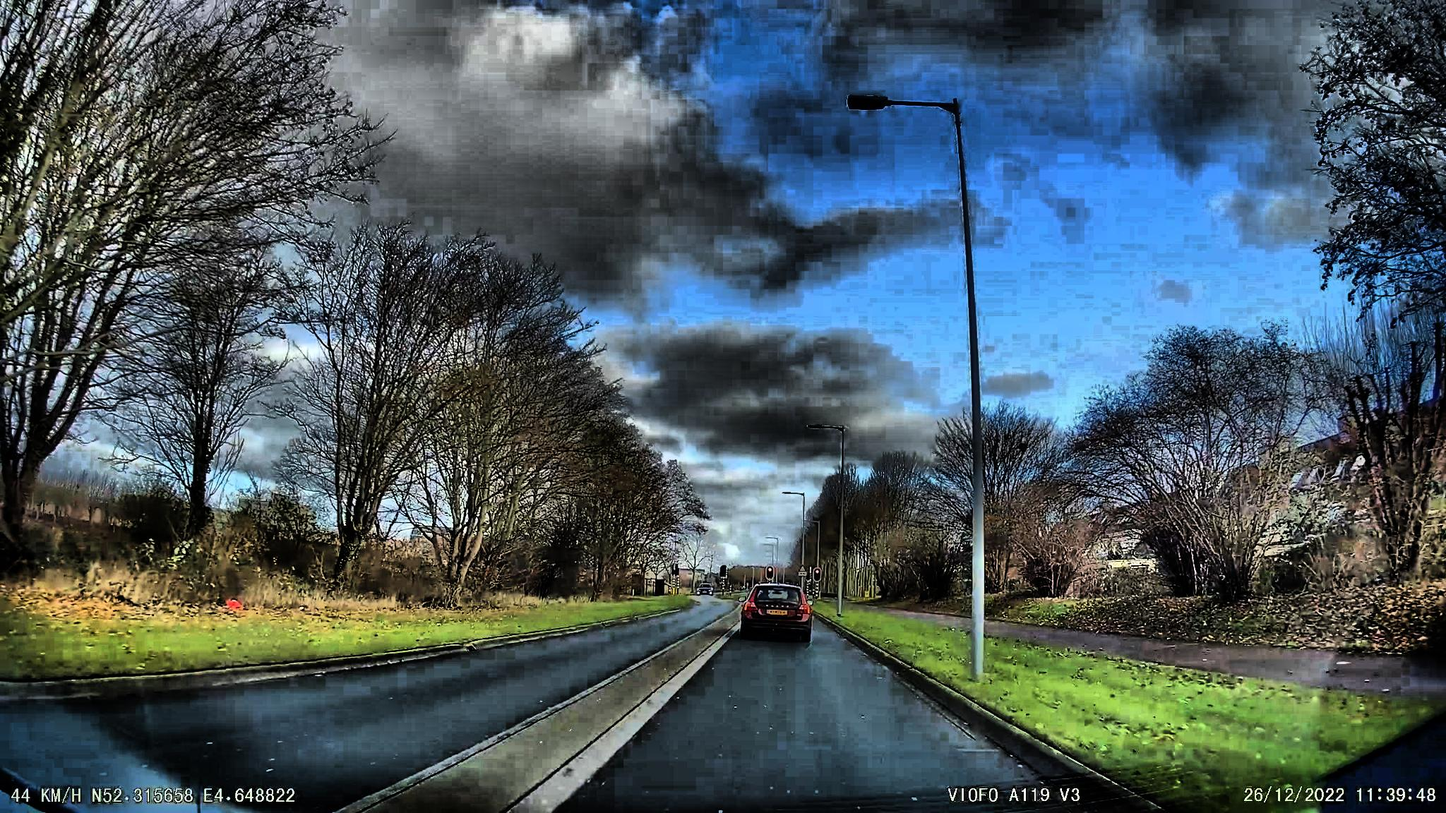Roads: (0, 605, 1164, 813)
